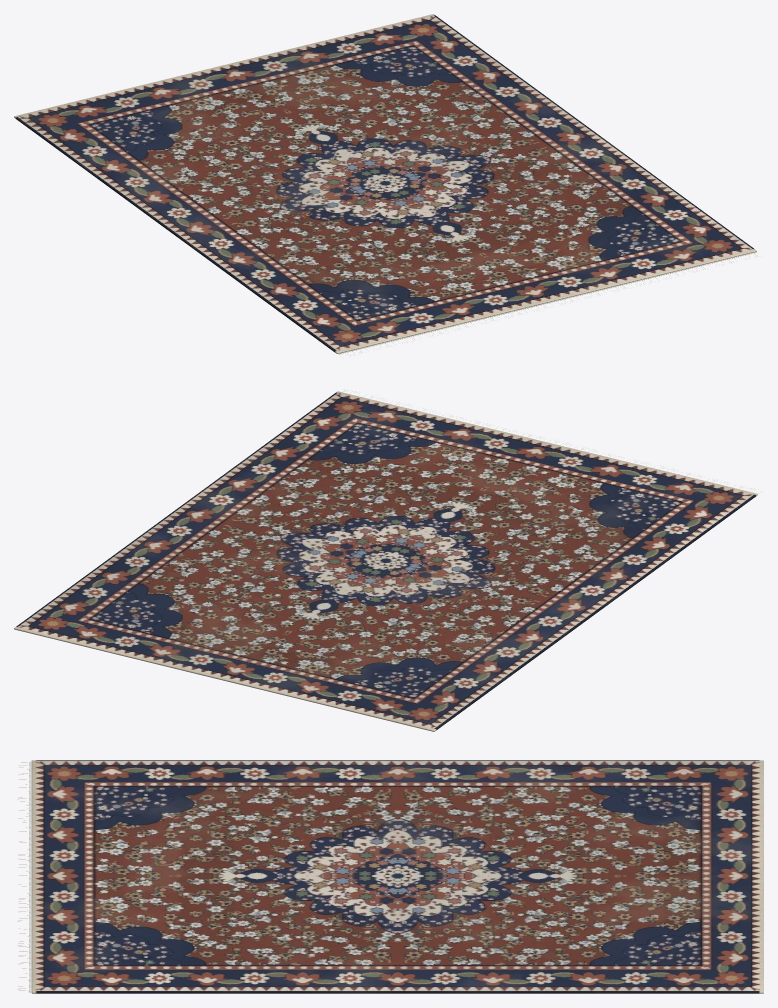
Rendered from rug-kashan-heirloom.lite.0a55ef18.glb.
3 renders of one model, top to bottom at view 1: azimuth 30°, elevation 25°; view 2: azimuth 150°, elevation 25°; view 3: azimuth 270°, elevation 25°, orthographic. The views are drawn at different scales.
Visible parts, largest first — view 1: rug-kashan-heirloom, rug-kashan-heirloom-fringe; view 2: rug-kashan-heirloom; view 3: rug-kashan-heirloom, rug-kashan-heirloom-fringe.
Part boxes in pixels (bbox=[...]): rug-kashan-heirloom: bbox=[14, 14, 756, 353]; rug-kashan-heirloom-fringe: bbox=[338, 252, 761, 356]; rug-kashan-heirloom: bbox=[14, 391, 757, 731]; rug-kashan-heirloom: bbox=[31, 760, 763, 993]; rug-kashan-heirloom-fringe: bbox=[17, 761, 30, 992].
Size of the model in its own units: 2.55 by 0.01 by 3.48.
Materials: 2 (2 with a texture image).
